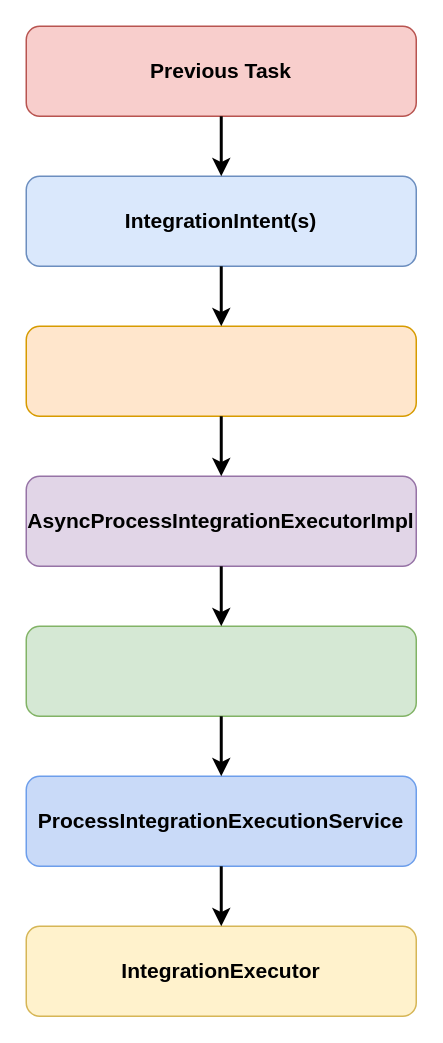
This 443x1043 diagram has some shape labels left out. Here are the shapes that lost their labels. From the top down, the centre of each, then its label:
At [220,370]: "AbstractIntegrationListener".
At [220,670]: "ProcessIntegrationService".
